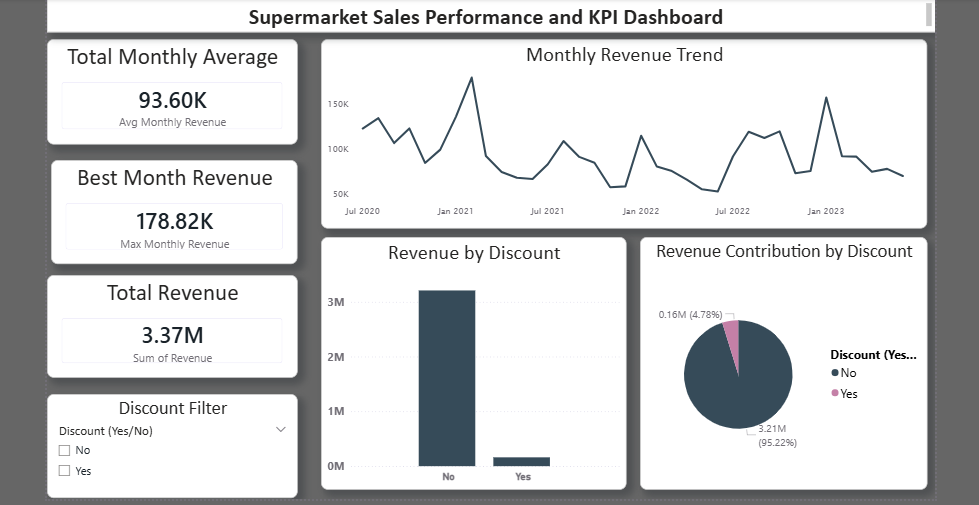

Layout of this report page (visuals, bound fields, positions):
{"tool":"powerbi","page":{"name":"Page 1","canvas":[1280,720],"ordinal":0},"visuals":[{"type":"cardVisual","title":"Total Revenue","fields":{"Data":["Sum(monthly_sales.Revenue)"]},"box":[0,396.8,360.5,148.4],"z":0},{"type":"cardVisual","title":"Total Monthly Average","fields":{"Data":["monthly_sales.Avg Monthly Revenue"]},"box":[0,56.9,360.5,151.8],"z":1000},{"type":"cardVisual","title":"Best Month Revenue","fields":{"Data":["monthly_sales.Max Monthly Revenue"]},"box":[5.2,231.2,355.4,150.1],"z":2000},{"type":"lineChart","title":"Monthly Revenue Trend","fields":{"Category":["monthly_sales.Date.Variation.Date Hierarchy.Year","monthly_sales.Date.Variation.Date Hierarchy.Quarter","monthly_sales.Date.Variation.Date Hierarchy.Month","monthly_sales.Date.Variation.Date Hierarchy.Day"],"Y":["Sum(monthly_sales.Revenue)"]},"box":[395,56.9,872.9,272.6],"z":3000},{"type":"columnChart","title":"Revenue by Discount","fields":{"Category":["discount_revenue.Discount (Yes/No)"],"Y":["Sum(discount_revenue.Revenue)"]},"box":[395,343.3,439.9,364],"z":4000},{"type":"slicer","title":"Discount Filter ","fields":{"Values":["discount_revenue.Discount (Yes/No)"]},"box":[0,569.3,360.5,150.1],"z":5000},{"type":"textbox","box":[0,0,1280.2,47.5],"z":6000},{"type":"pieChart","title":"Revenue Contribution by Discount","fields":{"Category":["discount_revenue.Discount (Yes/No)"],"Y":["Sum(discount_revenue.Revenue)"]},"box":[853.9,343.3,414,364],"z":7000}]}

Visuals, with their boxes in screenshot pixels (x1, y1, x2, y2):
"Total Revenue" cardVisual: [46, 272, 295, 374]
"Total Monthly Average" cardVisual: [46, 37, 295, 142]
"Best Month Revenue" cardVisual: [49, 157, 295, 261]
"Monthly Revenue Trend" lineChart: [319, 37, 923, 225]
"Revenue by Discount" columnChart: [319, 235, 623, 486]
"Discount Filter " slicer: [46, 391, 295, 495]
textbox: [46, 0, 931, 30]
"Revenue Contribution by Discount" pieChart: [636, 235, 923, 486]
